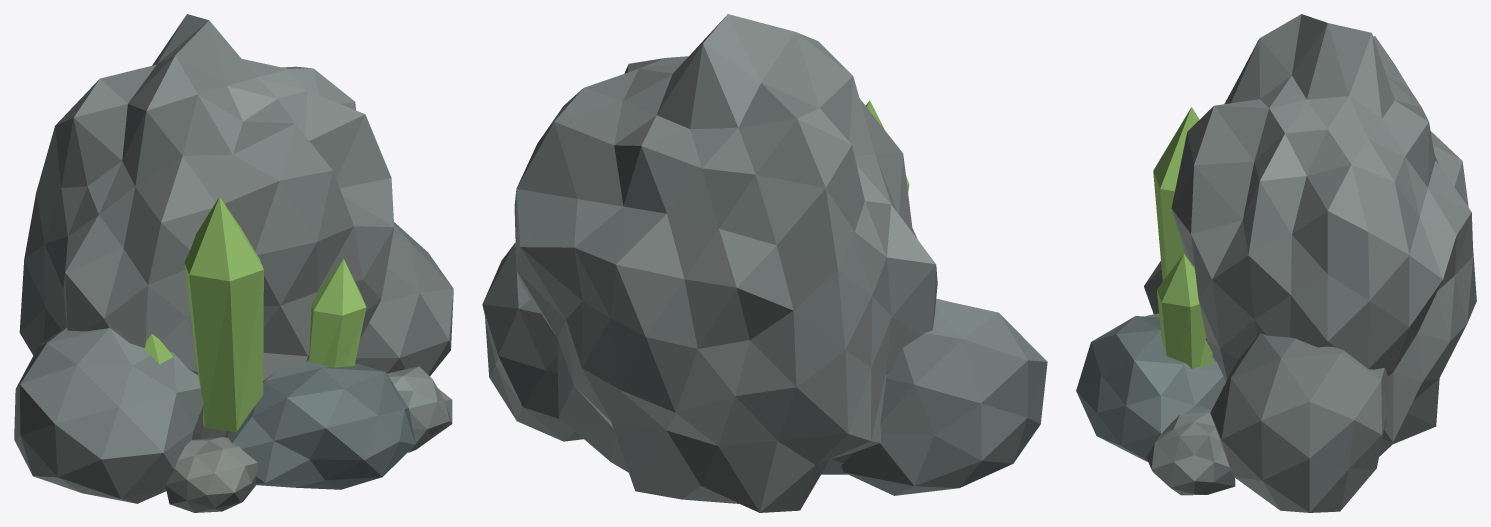
File: crystal_rock_green.glb
3 renders of one model, left to right at view 1: azimuth 30°, elevation 25°; view 2: azimuth 150°, elevation 25°; view 3: azimuth 270°, elevation 25°, orthographic. The views are drawn at different scales.
Visible parts, largest first — view 1: Main_rock, Rock_left, Rock_front, Crystal_main, Rock_right, Pebble_left, Crystal_side, Pebble_right, Crystal_small; view 2: Main_rock, Rock_left, Rock_right; view 3: Main_rock, Rock_right, Rock_front, Pebble_right, Crystal_side, Crystal_main, Rock_left.
Part boxes in pixels (left/top/right/bottom): Main_rock: left=19, top=14, right=394, bottom=439; Rock_left: left=14, top=327, right=203, bottom=503; Rock_front: left=225, top=360, right=415, bottom=489; Crystal_main: left=184, top=197, right=263, bottom=432; Rock_right: left=355, top=222, right=453, bottom=376; Pebble_left: left=165, top=437, right=257, bottom=512; Crystal_side: left=308, top=259, right=366, bottom=367; Pebble_right: left=387, top=366, right=452, bottom=452; Crystal_small: left=144, top=334, right=176, bottom=364; Main_rock: left=514, top=14, right=937, bottom=512; Rock_left: left=840, top=298, right=1047, bottom=495; Rock_right: left=482, top=242, right=583, bottom=441; Main_rock: left=1171, top=14, right=1476, bottom=456; Rock_right: left=1210, top=333, right=1388, bottom=512; Rock_front: left=1076, top=316, right=1225, bottom=461; Pebble_right: left=1146, top=412, right=1235, bottom=495; Crystal_side: left=1156, top=254, right=1212, bottom=368; Crystal_main: left=1153, top=107, right=1199, bottom=281; Rock_left: left=1144, top=261, right=1162, bottom=314.
Bounding box in the file's own units: 2.03 × 1.72 × 1.56.
